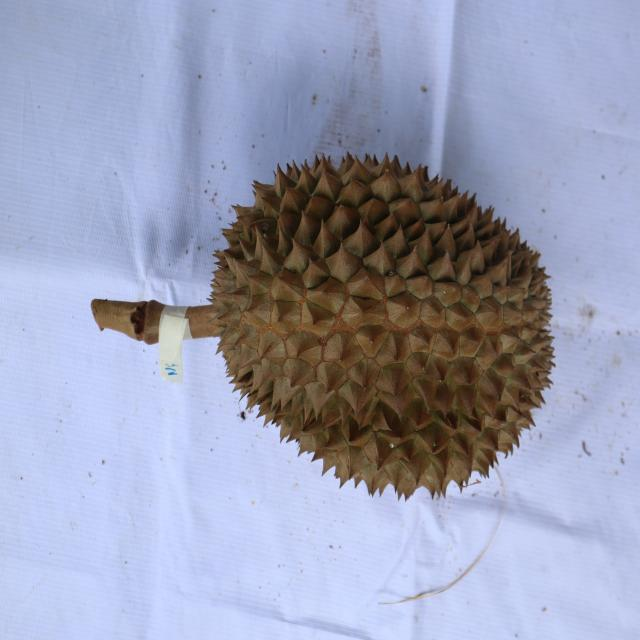mature: (209, 148, 558, 502)
